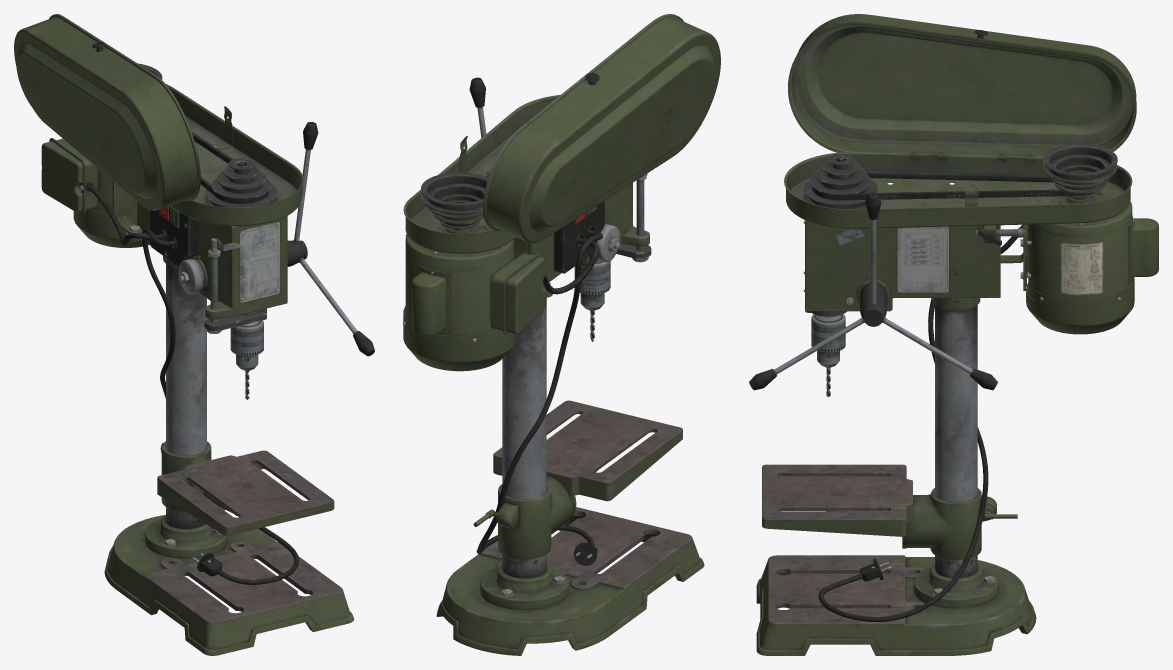
Rendered from drill_press_01.gltf.
3 views of the same model, side by side, from view 1: azimuth 30°, elevation 25°; view 2: azimuth 150°, elevation 25°; view 3: azimuth 270°, elevation 25° (orthographic). The views are drawn at different scales.
Parts seen in each view (by area): view 1: drill_press_01, drill_press_01_lid, drill_press_01_plate, drill_press_01_gear_b, drill_press_01_plug, drill_press_01_handle, drill_press_01_limiter, drill_press_01_bit, drill_press_01_belt; view 2: drill_press_01, drill_press_01_lid, drill_press_01_plate, drill_press_01_gear_a, drill_press_01_plug, drill_press_01_bit, drill_press_01_limiter, drill_press_01_handle; view 3: drill_press_01, drill_press_01_lid, drill_press_01_plate, drill_press_01_handle, drill_press_01_gear_a, drill_press_01_belt, drill_press_01_plug, drill_press_01_gear_b, drill_press_01_bit.
Boxes of the visible parts, x1,y1,x2,y2 form: drill_press_01: [41, 84, 353, 655]; drill_press_01_lid: [14, 14, 200, 210]; drill_press_01_plate: [157, 441, 334, 535]; drill_press_01_gear_b: [205, 158, 277, 207]; drill_press_01_plug: [142, 229, 298, 584]; drill_press_01_handle: [287, 122, 374, 356]; drill_press_01_limiter: [204, 238, 266, 333]; drill_press_01_bit: [230, 320, 263, 399]; drill_press_01_belt: [191, 132, 268, 203]; drill_press_01: [403, 95, 704, 655]; drill_press_01_lid: [483, 14, 720, 243]; drill_press_01_plate: [493, 400, 682, 559]; drill_press_01_gear_a: [421, 172, 488, 233]; drill_press_01_plug: [476, 230, 602, 565]; drill_press_01_bit: [574, 260, 610, 341]; drill_press_01_limiter: [616, 173, 651, 262]; drill_press_01_handle: [469, 77, 489, 174]; drill_press_01: [756, 152, 1158, 655]; drill_press_01_lid: [788, 14, 1136, 160]; drill_press_01_plate: [762, 464, 996, 559]; drill_press_01_handle: [749, 192, 997, 390]; drill_press_01_gear_a: [1043, 143, 1117, 203]; drill_press_01_belt: [812, 171, 1095, 200]; drill_press_01_plug: [818, 298, 988, 621]; drill_press_01_gear_b: [803, 153, 877, 209]; drill_press_01_bit: [811, 314, 845, 397].
Size of the model in its own units: 0.3543 by 0.9011 by 0.5988.
Materials: 1 (1 with a texture image).
